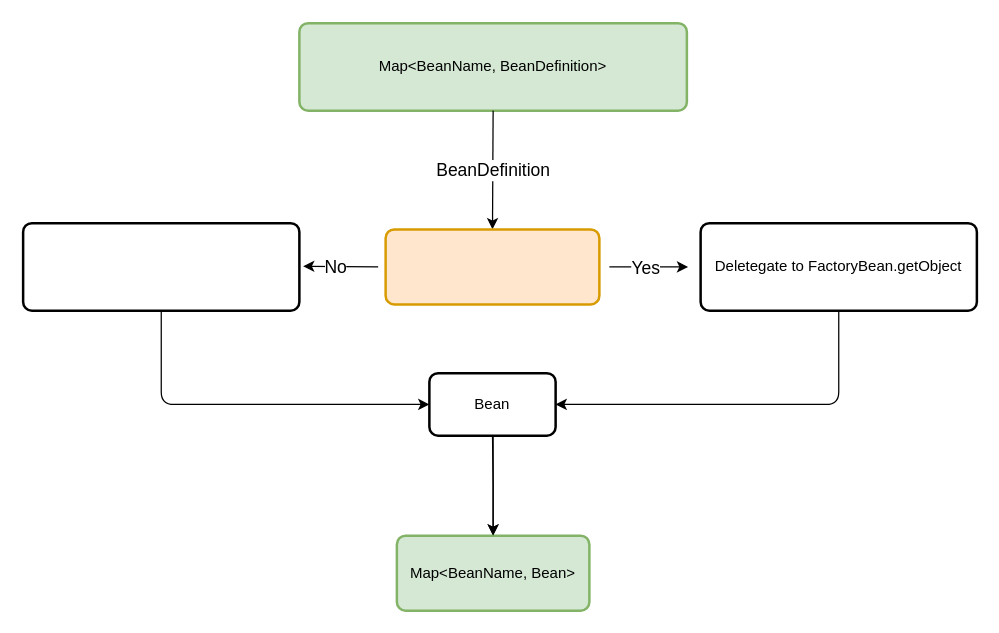
This 999x633 diagram has some shape labels left out. The shapes that lost their labels are listed below. From the top down, each one's centre as x and y in pixels, then its label:
At (x=160, y=266): "BeanFactory.getObject".
At (x=492, y=266): "Implements FactoryBean?".
